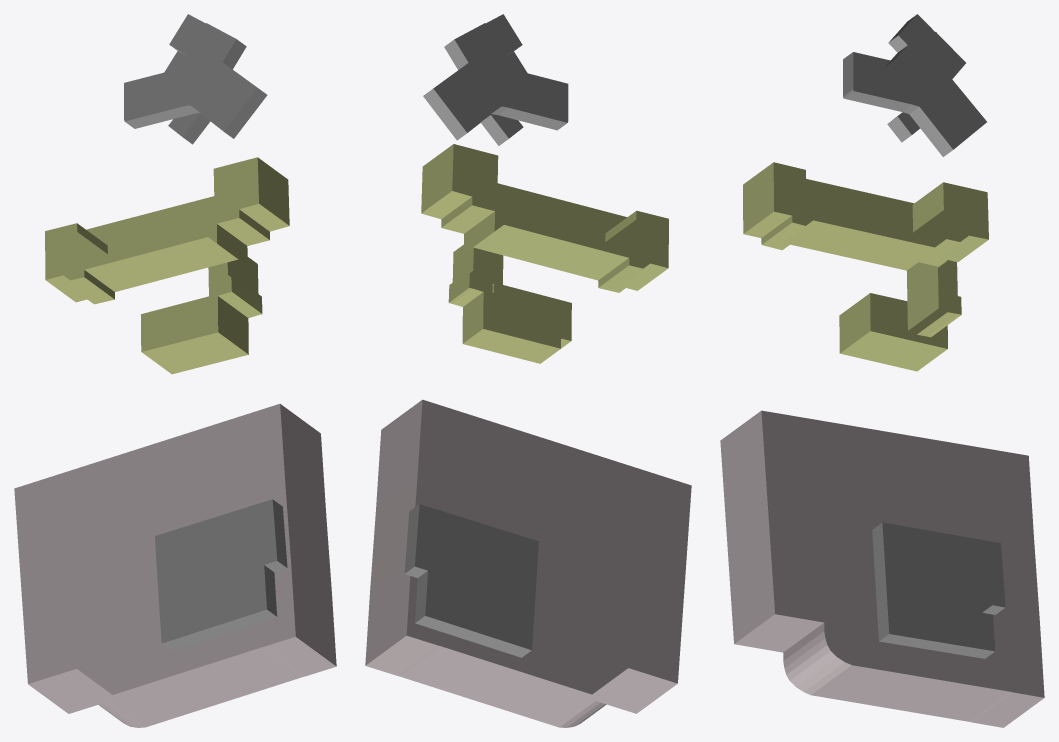
3 views of the same model, side by side, from view 1: azimuth 30°, elevation 25°; view 2: azimuth 150°, elevation 25°; view 3: azimuth 330°, elevation 25° (orthographic).
Parts seen in each view (by area): view 1: 0_3_2_0_2_3_3_2; view 2: 0_3_2_0_2_3_3_2; view 3: 0_3_2_0_2_3_3_2.
Part boxes in pixels (x1,y1,x2,y2): 0_3_2_0_2_3_3_2: [14, 14, 336, 727]; 0_3_2_0_2_3_3_2: [365, 14, 691, 727]; 0_3_2_0_2_3_3_2: [720, 14, 1044, 727].
Bounding box in the file's own units: 47.79 × 109 × 12.
